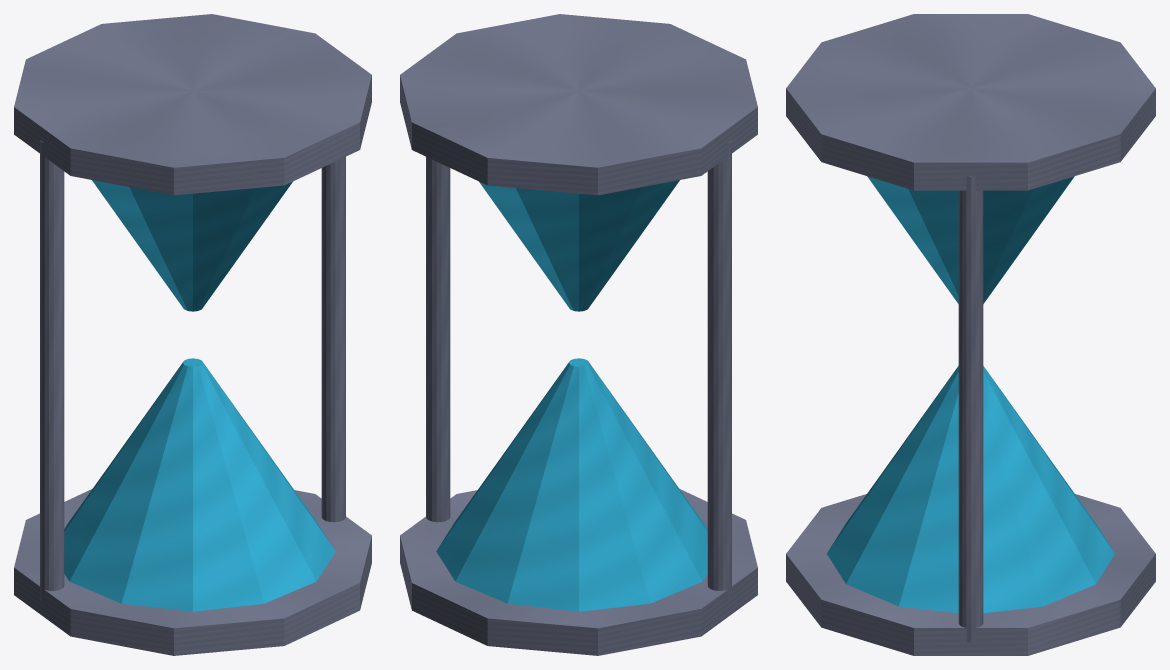
Rendered from stillwater-hourglass.glb.
3 renders of one model, left to right at view 1: azimuth 30°, elevation 25°; view 2: azimuth 150°, elevation 25°; view 3: azimuth 270°, elevation 25°, orthographic.
Parts seen in each view (by area): view 1: hourglass-cap-top, hourglass-bulb-lower, hourglass-cap-bottom, hourglass-bulb-upper, hourglass-post-1, hourglass-post-0; view 2: hourglass-cap-top, hourglass-bulb-lower, hourglass-cap-bottom, hourglass-bulb-upper, hourglass-post-1, hourglass-post-0; view 3: hourglass-cap-top, hourglass-bulb-lower, hourglass-cap-bottom, hourglass-post-0, hourglass-bulb-upper.
Part boxes in pixels (<box>): hourglass-cap-top: <box>14,14,371,195</box>; hourglass-bulb-lower: <box>64,358,335,611</box>; hourglass-cap-bottom: <box>14,489,371,655</box>; hourglass-bulb-upper: <box>92,180,292,311</box>; hourglass-post-1: <box>40,140,64,602</box>; hourglass-post-0: <box>321,157,345,522</box>; hourglass-cap-top: <box>400,14,757,195</box>; hourglass-bulb-lower: <box>436,358,707,611</box>; hourglass-cap-bottom: <box>400,489,757,655</box>; hourglass-bulb-upper: <box>479,180,679,311</box>; hourglass-post-1: <box>707,140,731,602</box>; hourglass-post-0: <box>426,157,450,522</box>; hourglass-cap-top: <box>786,14,1155,190</box>; hourglass-bulb-lower: <box>827,366,1114,613</box>; hourglass-cap-bottom: <box>786,494,1155,655</box>; hourglass-post-0: <box>958,176,983,642</box>; hourglass-bulb-upper: <box>867,176,1074,303</box>.
Bounding box in the file's own units: 0.344 × 0.53 × 0.36.
Materials: 7 (7 with a texture image).
